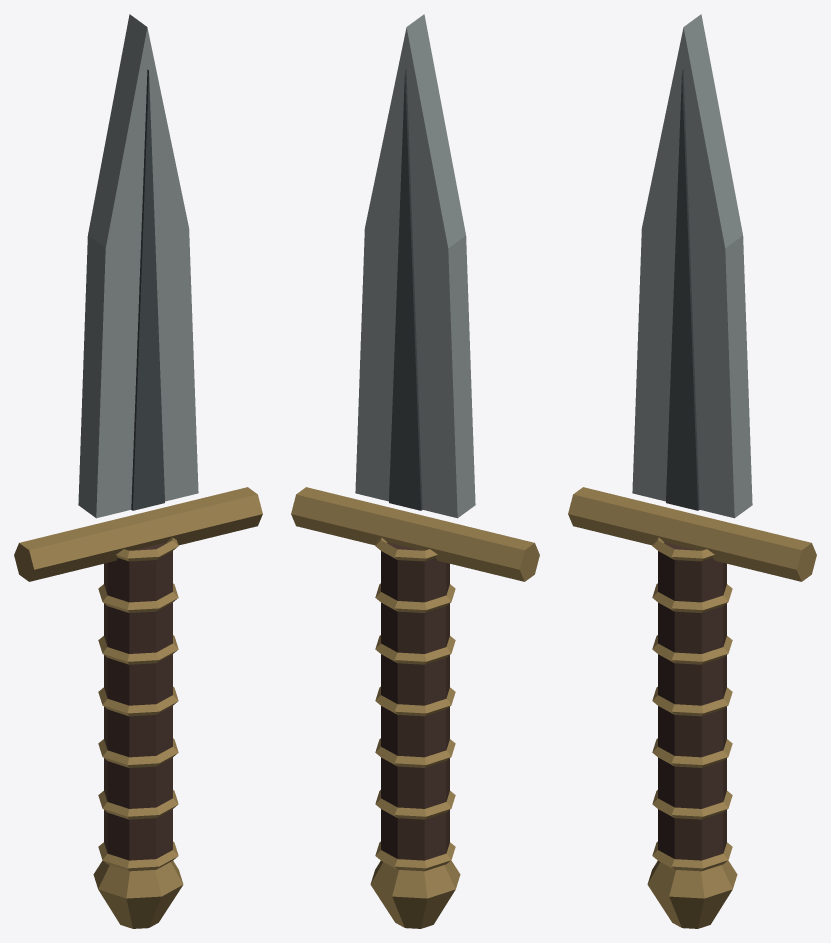
The model's file is WPN_Dagger_00_Rondel.glb.
3 renders of one model, left to right at view 1: azimuth 30°, elevation 25°; view 2: azimuth 150°, elevation 25°; view 3: azimuth 330°, elevation 25°, orthographic.
Parts seen in each view (by area): view 1: WPN_Dagger_00_Rondel__Body; view 2: WPN_Dagger_00_Rondel__Body; view 3: WPN_Dagger_00_Rondel__Body.
Boxes of the visible parts, x1,y1,x2,y2 form: WPN_Dagger_00_Rondel__Body: (14, 14, 262, 928); WPN_Dagger_00_Rondel__Body: (291, 14, 539, 928); WPN_Dagger_00_Rondel__Body: (568, 14, 816, 928).
Bounding box in the file's own units: 0.17 × 0.639 × 0.06.
